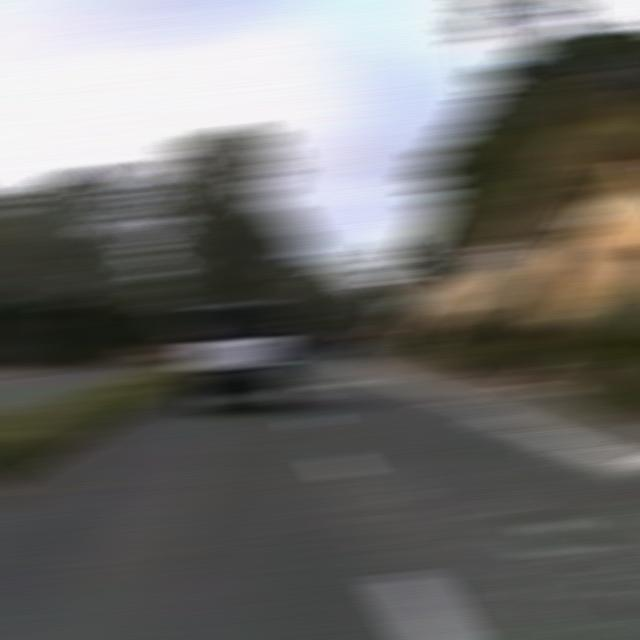speedLimit40: (461, 244, 503, 274)
